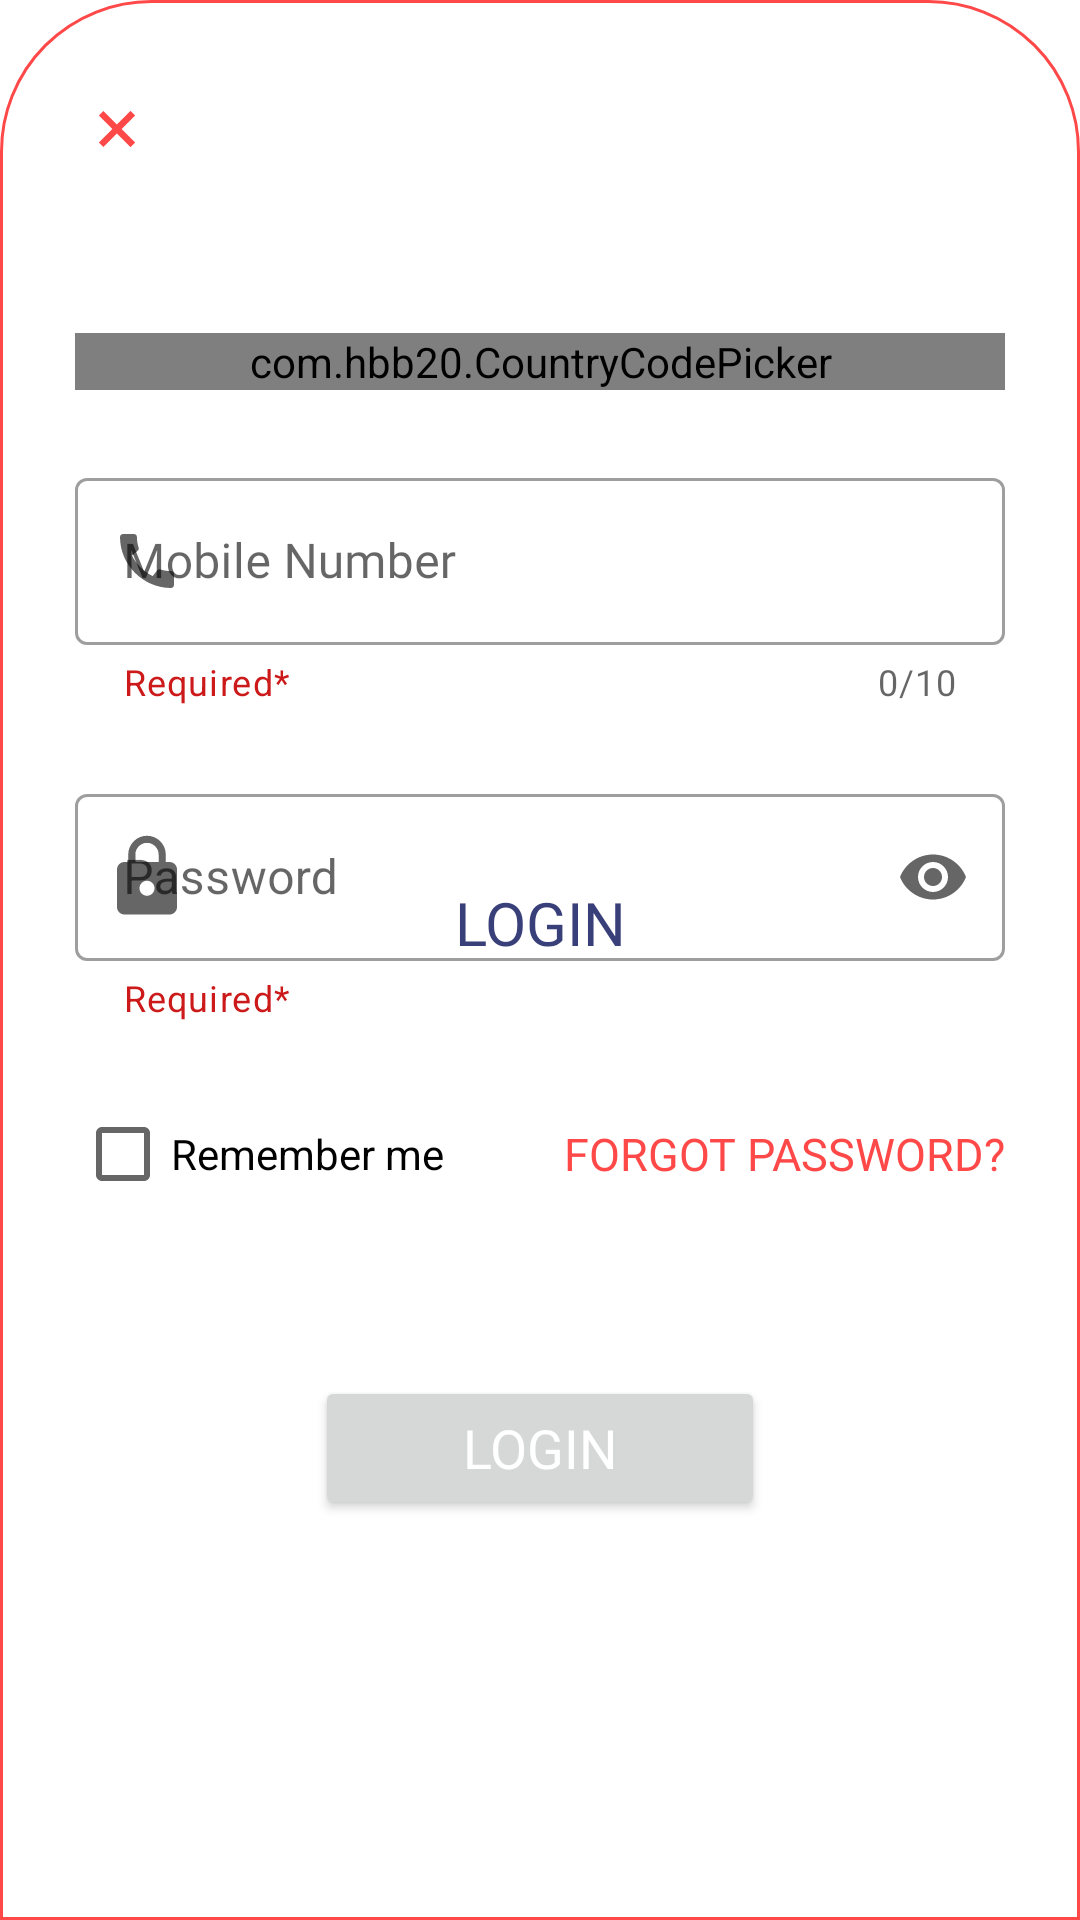

Icon click points for this 1080w x 1920h phone screenshot, format (x=x, y=y):
cancel: (x=117, y=129)
